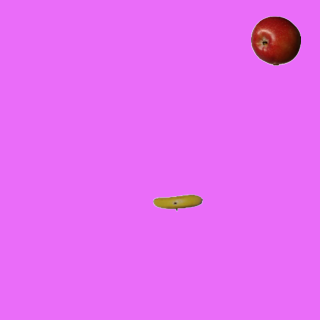Apple Braeburn: (250, 15, 300, 65)
Banana: (152, 177, 202, 227)
